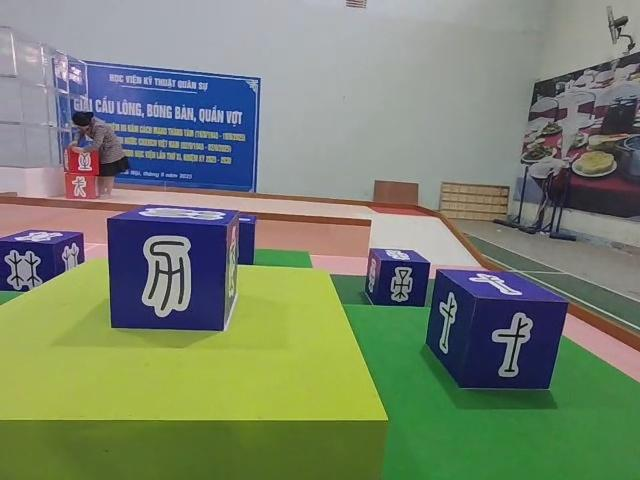R2 Fake Blue: (108, 207, 243, 335)
R2 Real Blue: (427, 270, 567, 392), (0, 230, 83, 294), (362, 248, 429, 309)
